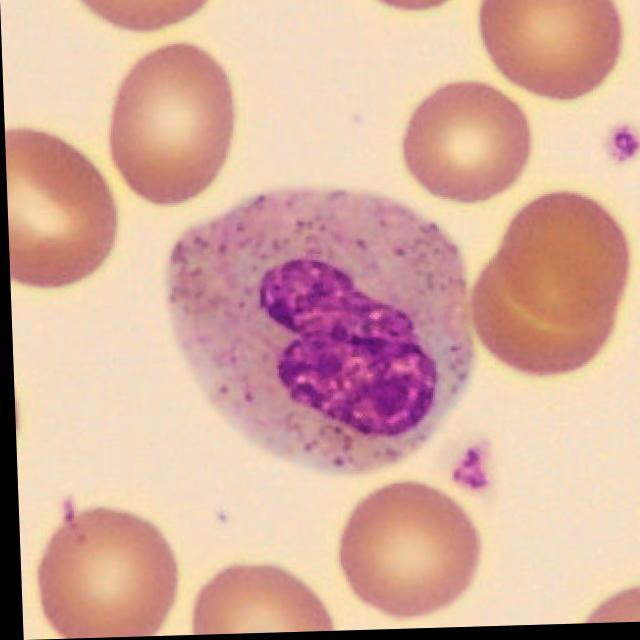Neutrofilo segmentado: (165, 188, 471, 478)
